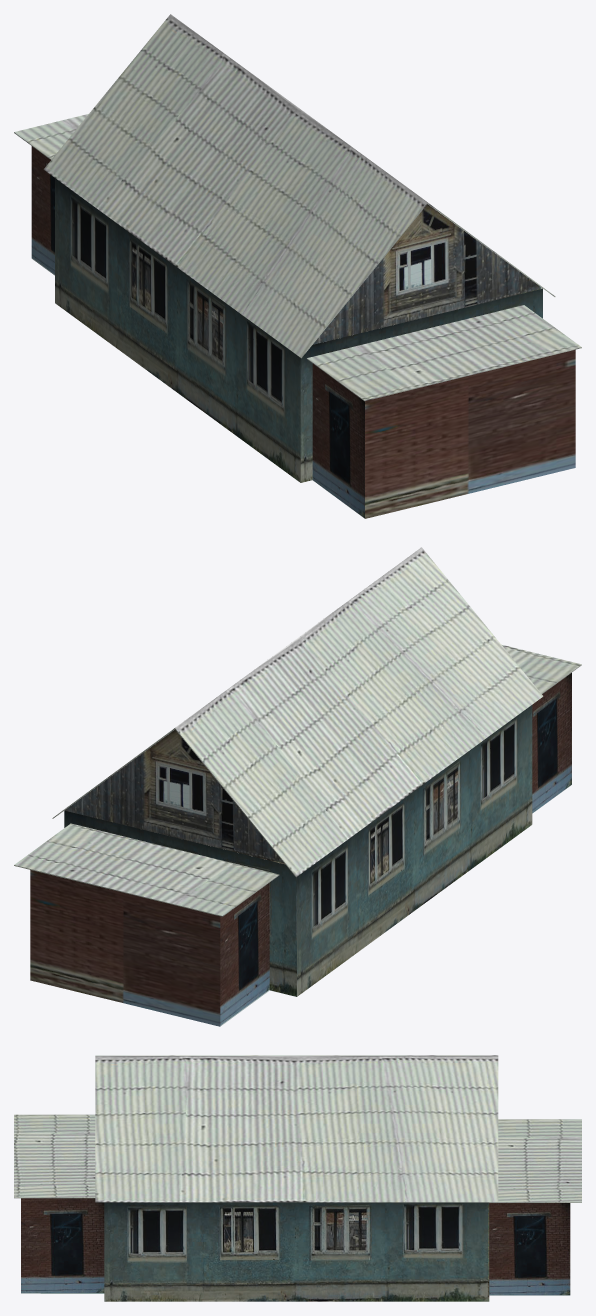
Rendered from r402_dom_bekishevo2.FBX.
3 renders of one model, top to bottom at view 1: azimuth 30°, elevation 25°; view 2: azimuth 150°, elevation 25°; view 3: azimuth 270°, elevation 25°, orthographic. The views are drawn at different scales.
Parts seen in each view (by area): view 1: r402_dom_bekishevo2; view 2: r402_dom_bekishevo2; view 3: r402_dom_bekishevo2.
Part boxes in pixels (x1,y1,x2,y2): r402_dom_bekishevo2: [14, 14, 581, 518]; r402_dom_bekishevo2: [14, 547, 581, 1026]; r402_dom_bekishevo2: [14, 1055, 581, 1301].
Size of the model in its own units: 631 by 1555 by 604.
